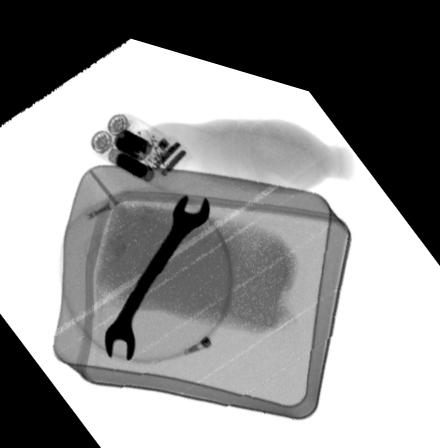Wrench: (102, 180, 211, 354)
